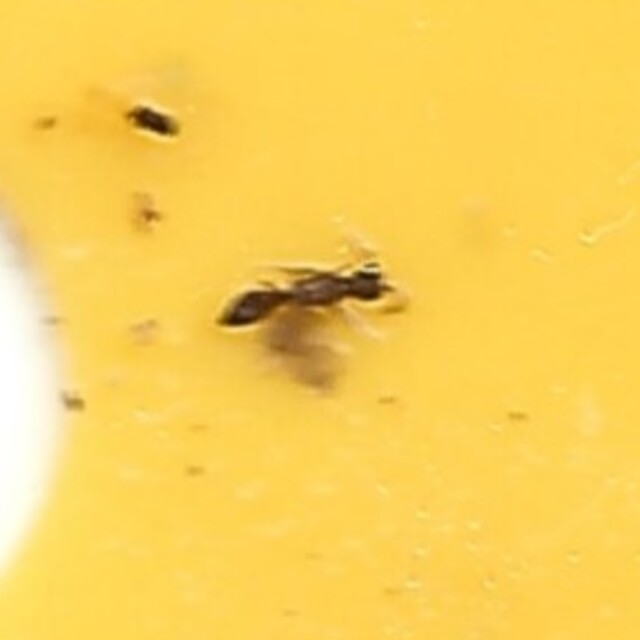Hymenoptera: (223, 239, 417, 401)
